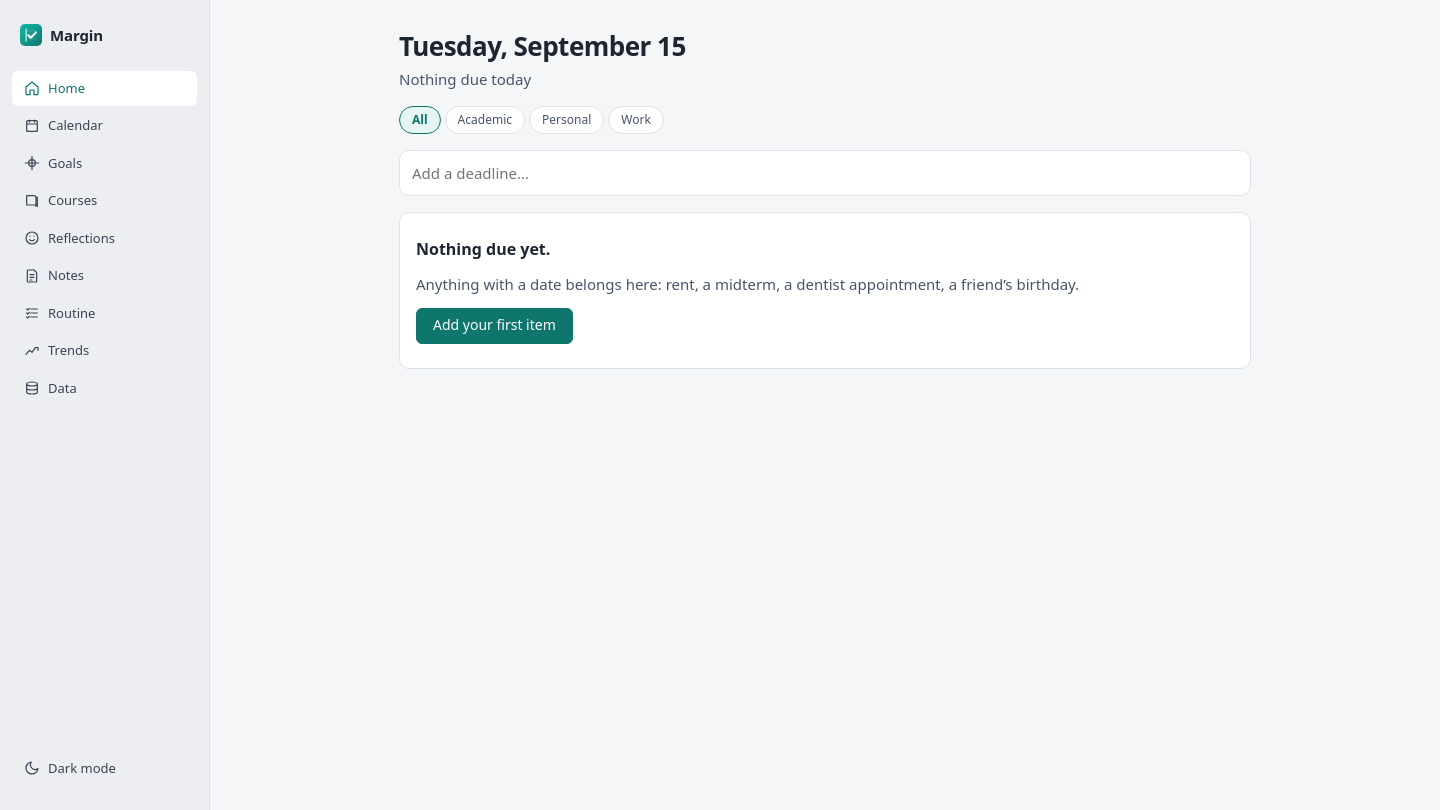
Test case: AC-01.1 an added item appears in the list
Type "CSE 100 project" into the field named "Title" at (825, 173), box [400,151,1250,195]
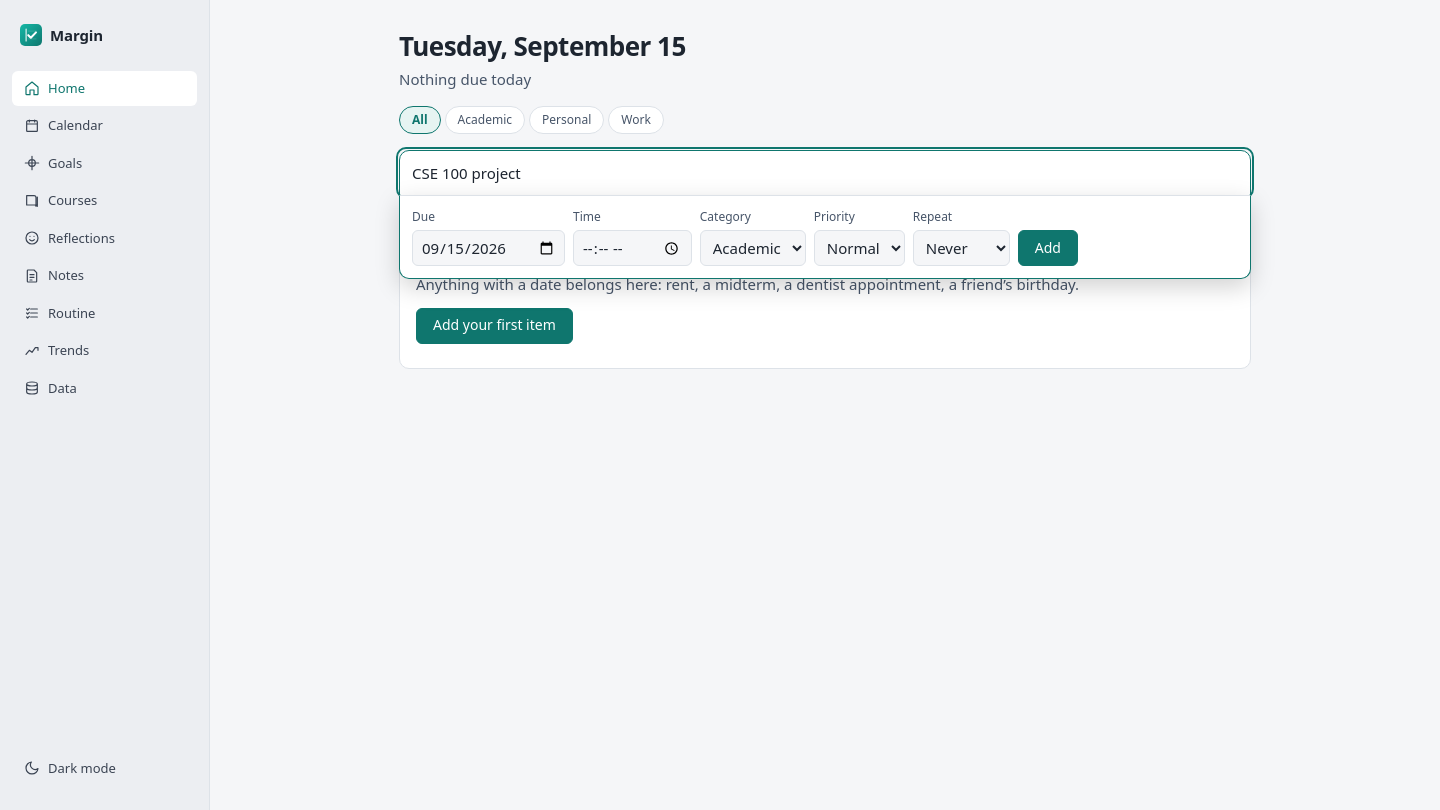
Type "2026-10-03" into the date field labelled "Due" at (488, 248), box [412,230,565,266]
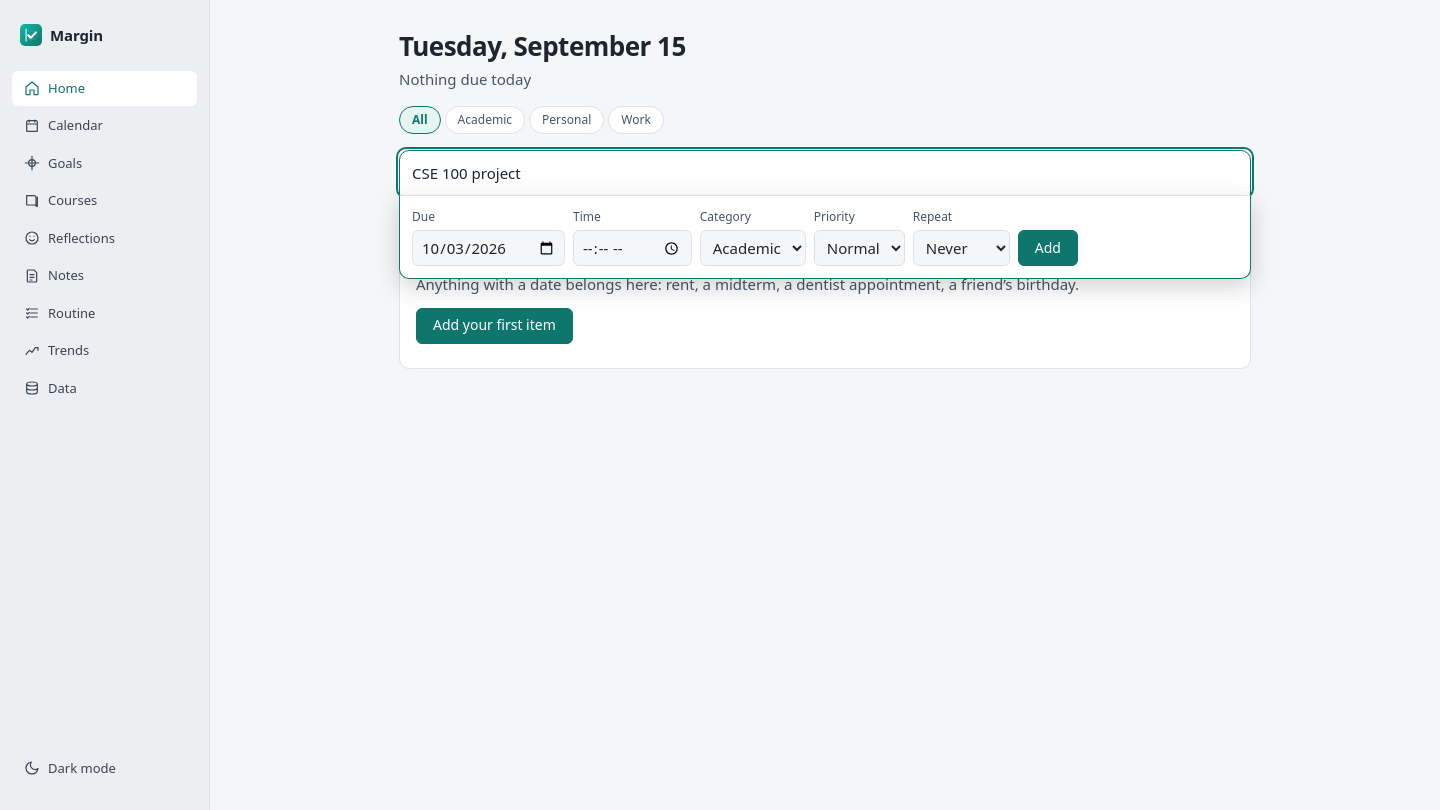
Click the button "Add" at (1048, 248), box [1018,230,1078,266]
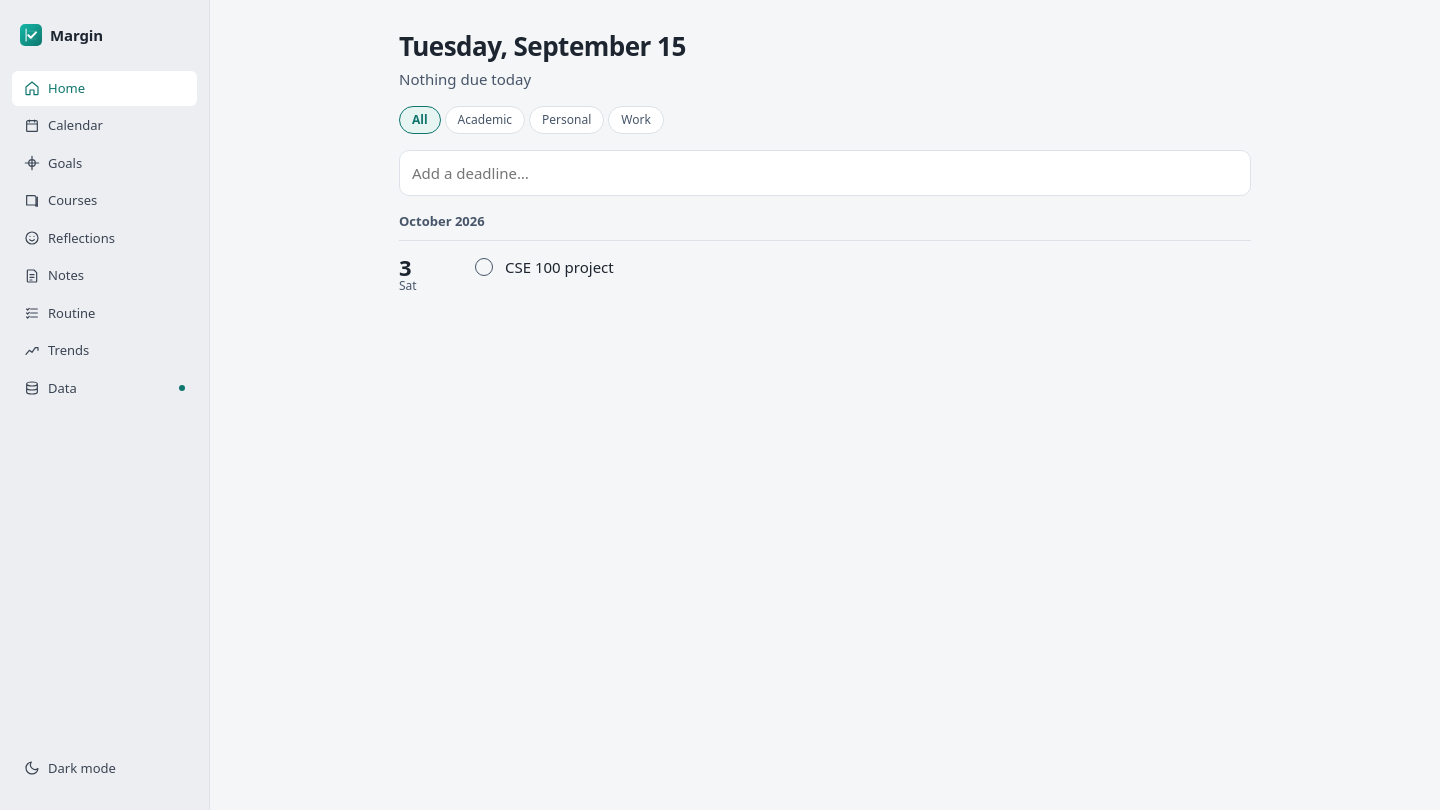
Expected: the button "CSE 100 project" is shown, [505,256,1243,278]
Expected: the heading named "October 3, 2026" is shown, [399,249,455,292]
